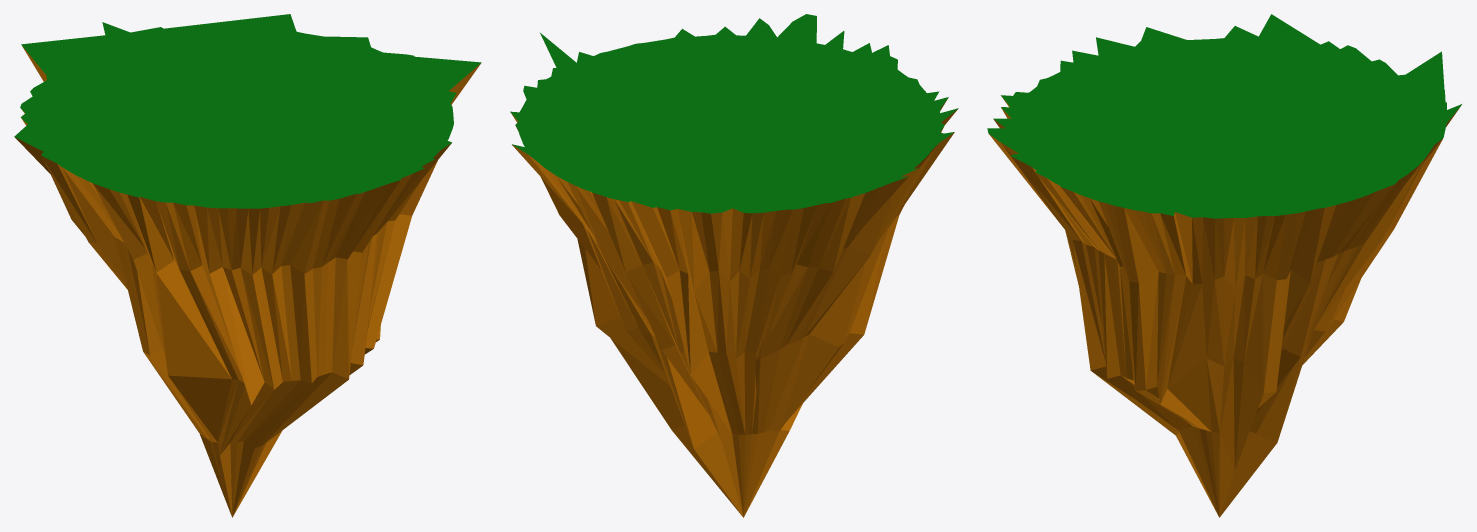
The model's file is SkyIsland001.fbx.
The picture shows the model from 3 angles, left to right: view 1: azimuth 30°, elevation 25°; view 2: azimuth 150°, elevation 25°; view 3: azimuth 270°, elevation 25°; orthographic projection.
Visible parts, largest first — view 1: Cone; view 2: Cone; view 3: Cone.
Boxes of the visible parts, bbox=[...] form: Cone: bbox=[14, 14, 481, 517]; Cone: bbox=[510, 14, 958, 517]; Cone: bbox=[987, 14, 1461, 517].
Bounding box in the file's own units: 204 × 194 × 200.
